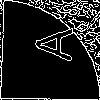A: (24, 25, 73, 62)
